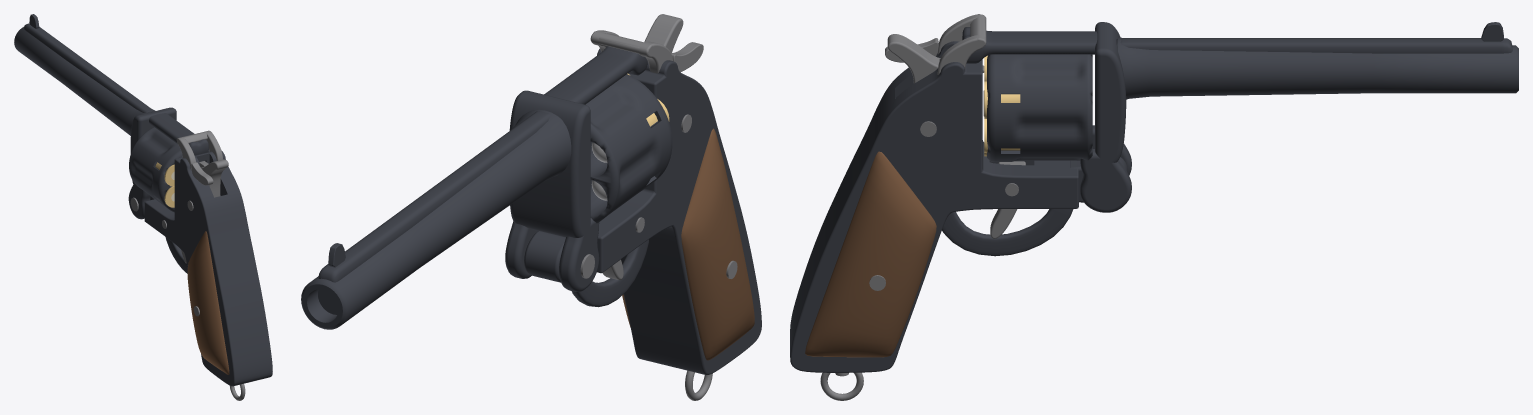
The model's file is webley.glb.
3 views of the same model, side by side, from view 1: azimuth 30°, elevation 25°; view 2: azimuth 150°, elevation 25°; view 3: azimuth 270°, elevation 25° (orthographic). The views are drawn at different scales.
Visible parts, largest first — view 1: WBL_Frame, WBL_Barrel, WBL_Grip_L, WBL_Cylinder, WBL_Rib, WBL_TopStrap, WBL_BreechBlock, WBL_Hammer, WBL_Cheek_L, WBL_Latch_Lever, WBL_TriggerGuard, WBL_Latch_ArmL (+1 smaller); view 2: WBL_Frame, WBL_Barrel, WBL_Grip_L, WBL_Cylinder, WBL_BreechBlock, WBL_Rib, WBL_TopStrap, WBL_Cheek_L, WBL_TriggerGuard, WBL_Knuckle, WBL_Cheek_R, WBL_Hammer (+4 smaller); view 3: WBL_Frame, WBL_Barrel, WBL_Grip_R, WBL_Cylinder, WBL_Rib, WBL_BreechBlock, WBL_TriggerGuard, WBL_TopStrap, WBL_Cheek_R, WBL_Hammer, WBL_Latch.
Part boxes in pixels (x1=…): WBL_Frame: x1=144, y1=151, x2=272, y2=386; WBL_Barrel: x1=14, y1=27, x2=155, y2=135; WBL_Grip_L: x1=187, y1=231, x2=229, y2=374; WBL_Cylinder: x1=129, y1=127, x2=209, y2=212; WBL_Rib: x1=24, y1=23, x2=153, y2=112; WBL_TopStrap: x1=149, y1=113, x2=208, y2=155; WBL_BreechBlock: x1=130, y1=107, x2=176, y2=187; WBL_Hammer: x1=201, y1=159, x2=228, y2=197; WBL_Cheek_L: x1=128, y1=184, x2=150, y2=219; WBL_Latch_Lever: x1=191, y1=162, x2=213, y2=185; WBL_TriggerGuard: x1=165, y1=237, x2=187, y2=273; WBL_Latch_ArmL: x1=177, y1=137, x2=195, y2=170; WBL_Frame: x1=597, y1=48, x2=761, y2=374; WBL_Barrel: x1=301, y1=109, x2=571, y2=329; WBL_Grip_L: x1=681, y1=128, x2=754, y2=360; WBL_Cylinder: x1=585, y1=74, x2=672, y2=223; WBL_BreechBlock: x1=509, y1=90, x2=590, y2=237; WBL_Rib: x1=318, y1=111, x2=550, y2=282; WBL_TopStrap: x1=544, y1=46, x2=647, y2=104; WBL_Cheek_L: x1=559, y1=218, x2=599, y2=291; WBL_TriggerGuard: x1=571, y1=239, x2=648, y2=307; WBL_Knuckle: x1=524, y1=231, x2=565, y2=282; WBL_Cheek_R: x1=505, y1=221, x2=538, y2=278; WBL_Hammer: x1=644, y1=14, x2=683, y2=52; WBL_Frame: x1=790, y1=41, x2=1078, y2=372; WBL_Barrel: x1=1118, y1=37, x2=1518, y2=99; WBL_Grip_R: x1=805, y1=151, x2=936, y2=357; WBL_Cylinder: x1=987, y1=54, x2=1092, y2=161; WBL_Rib: x1=1116, y1=38, x2=1512, y2=53; WBL_BreechBlock: x1=1095, y1=22, x2=1126, y2=163; WBL_TriggerGuard: x1=942, y1=209, x2=1073, y2=256; WBL_TopStrap: x1=962, y1=27, x2=1097, y2=63; WBL_Cheek_R: x1=1080, y1=149, x2=1131, y2=212; WBL_Hammer: x1=887, y1=34, x2=940, y2=83; WBL_Latch: x1=937, y1=35, x2=986, y2=74.
Bounding box in the file's own units: 0.042 × 0.1497 × 0.2617.
